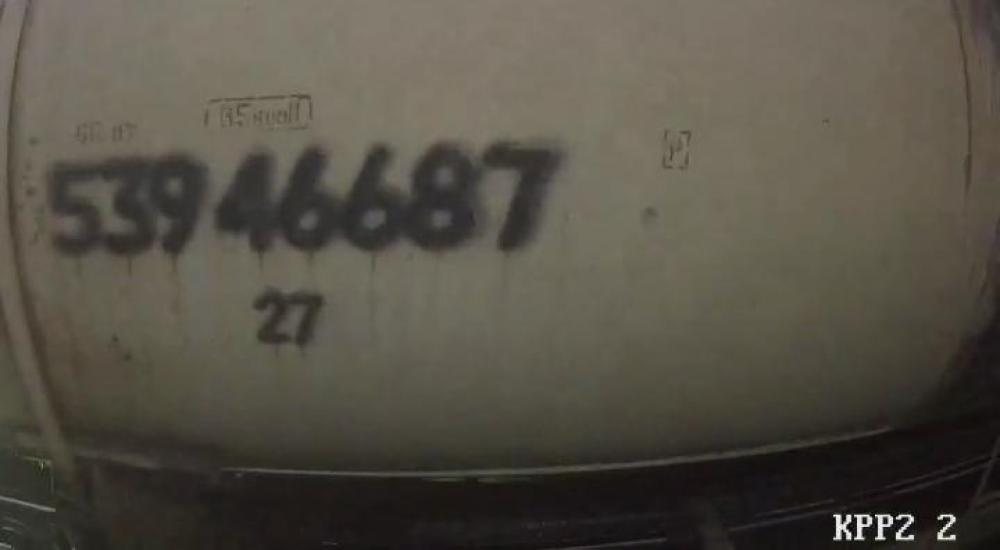Wagon-number: (44, 138, 574, 267)
